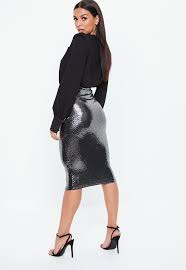C_skirt: (50, 85, 118, 191)
